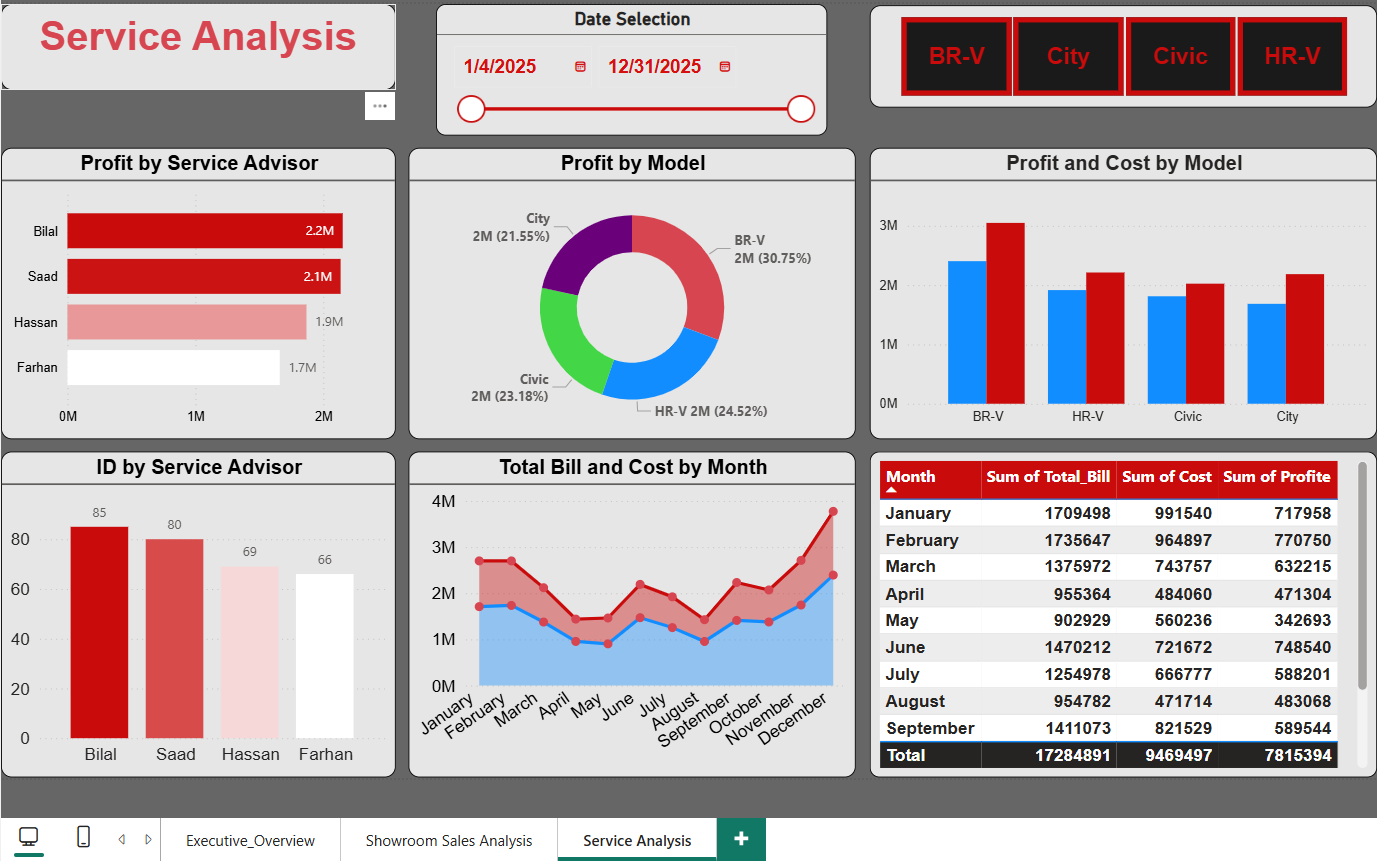

This screenshot's page, from the dashboard's own definition file:
{"tool":"powerbi","page":{"name":"Service Analysis","canvas":[1280,720],"ordinal":2},"visuals":[{"type":"textbox","box":[0,0,367.4,80.2],"z":0},{"type":"slicer","fields":{"Values":["Honda _car_Repair.Model"]},"box":[808.1,1.2,472.1,95.3],"z":1000},{"type":"clusteredColumnChart","title":"ID by Service Advisor","fields":{"Category":["Honda _car_Repair.Service_Advisor"],"Y":["CountNonNull(Honda _car_Repair.ID)"]},"box":[0,416.3,367.4,303.5],"z":2000},{"type":"stackedAreaChart","title":"Total Bill and Cost by Month","fields":{"Category":["Honda _car_Repair.Service_Date.Variation.Date Hierarchy.Month"],"Y":["Sum(Honda _car_Repair.Total_Bill)","Sum(Honda _car_Repair.Cost)"]},"box":[379.1,416.3,416.3,303.5],"z":3000},{"type":"donutChart","title":"Profit by Model","fields":{"Category":["Honda _car_Repair.Model"],"Y":["Sum(Honda _car_Repair.Profite)"]},"box":[379.1,133.7,416.3,270.9],"z":4000},{"type":"clusteredBarChart","title":"Profit by Service Advisor","fields":{"Category":["Honda _car_Repair.Service_Advisor"],"Y":["Sum(Honda _car_Repair.Profite)"]},"box":[0,133.7,367.4,270.9],"z":5000},{"type":"clusteredColumnChart","title":"Profit and Cost by Model","fields":{"Category":["Honda _car_Repair.Model"],"Y":["Sum(Honda _car_Repair.Profite)","Sum(Honda _car_Repair.Cost)"]},"box":[808.1,133.7,472.1,270.9],"z":6000},{"type":"slicer","title":"Date Selection","fields":{"Values":["Honda _car_Repair.Service_Date"]},"box":[404.7,0,364,122.1],"z":7000},{"type":"tableEx","fields":{"Values":["Honda _car_Repair.Service_Date.Variation.Date Hierarchy.Month","Sum(Honda _car_Repair.Total_Bill)","Sum(Honda _car_Repair.Cost)","Sum(Honda _car_Repair.Profite)"]},"box":[808.1,416.3,472.1,303.5],"z":8000}]}

Visuals, with their boxes on the page's 1280x720 design canvas (x1, y1, x2, y2). These are canvas units, not pixel positions in the 1377x861 screenshot, which may show the page scaled, cropped or inside an application window:
textbox: 0, 0, 367, 80
slicer - Honda _car_Repair.Model: 808, 1, 1280, 96
"ID by Service Advisor" clusteredColumnChart: 0, 416, 367, 720
"Total Bill and Cost by Month" stackedAreaChart: 379, 416, 795, 720
"Profit by Model" donutChart: 379, 134, 795, 405
"Profit by Service Advisor" clusteredBarChart: 0, 134, 367, 405
"Profit and Cost by Model" clusteredColumnChart: 808, 134, 1280, 405
"Date Selection" slicer: 405, 0, 769, 122
tableEx - Honda _car_Repair.Service_Date.Variation.Date Hierarchy.Month x Sum(Honda _car_Repair.Total_Bill): 808, 416, 1280, 720
